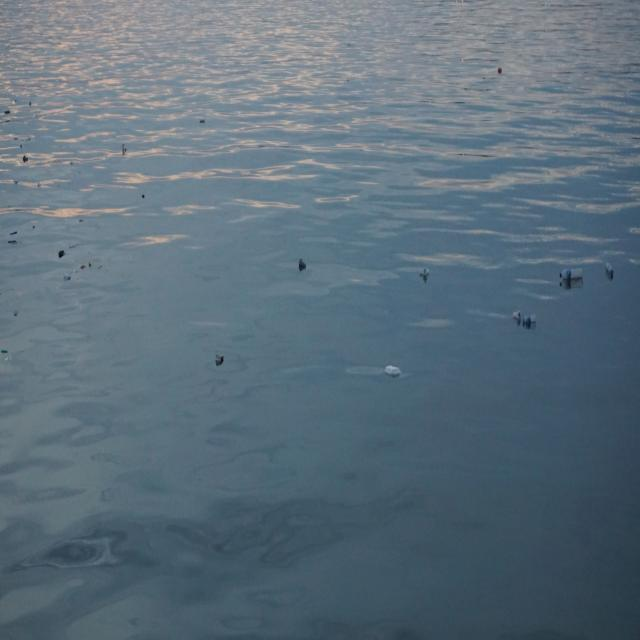Botol Plastik: (557, 259, 589, 290), (520, 310, 542, 334), (605, 258, 618, 287)
Bungkus Makanan: (381, 358, 407, 383)
Bungkus Minuman: (214, 347, 229, 370), (421, 265, 433, 280), (512, 309, 523, 321)
